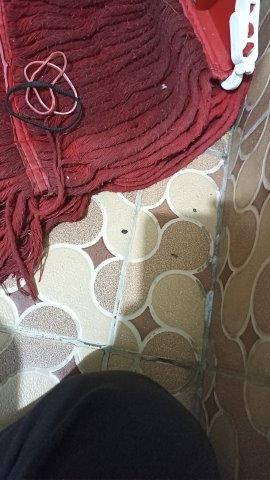karet: (3, 51, 83, 132)
